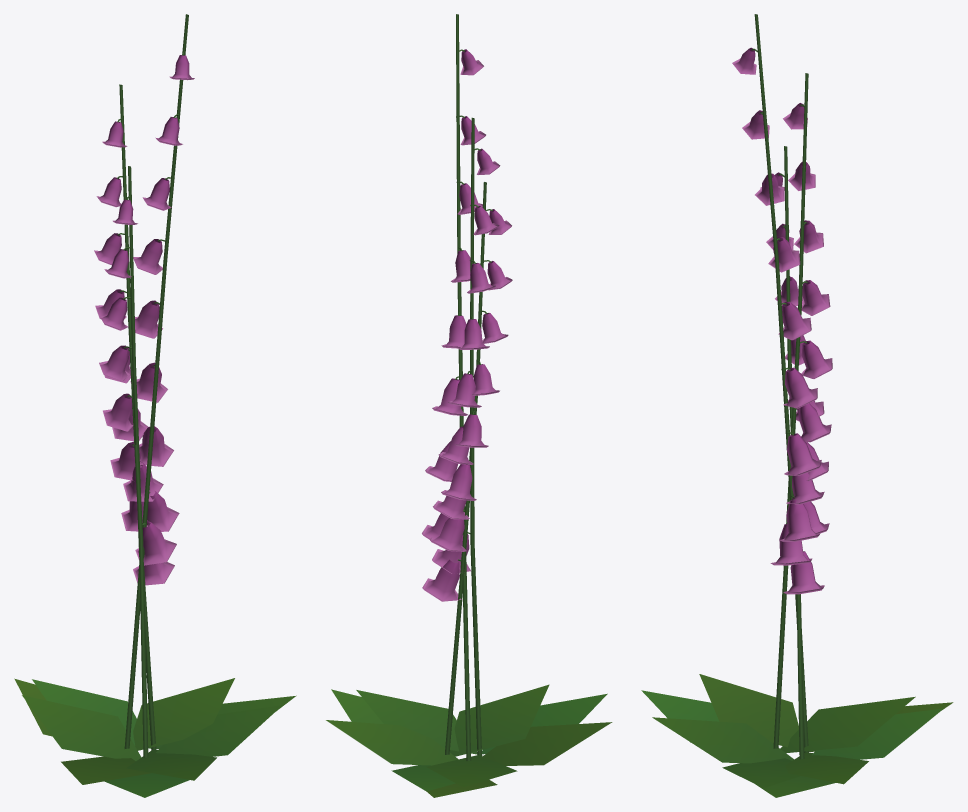
Rendered from flower-foxglove-b.lod1.glb.
The picture shows the model from 3 angles, left to right: view 1: azimuth 30°, elevation 25°; view 2: azimuth 150°, elevation 25°; view 3: azimuth 270°, elevation 25°; orthographic projection. The views are drawn at different scales.
Parts seen in each view (by area): view 1: flower-foxglove-b.lod1; view 2: flower-foxglove-b.lod1; view 3: flower-foxglove-b.lod1.
Part boxes in pixels (x1=…): flower-foxglove-b.lod1: x1=14, y1=14, x2=296, y2=797; flower-foxglove-b.lod1: x1=326, y1=14, x2=612, y2=797; flower-foxglove-b.lod1: x1=641, y1=14, x2=953, y2=797.
Size of the model in its own units: 0.3981 by 1.13 by 0.4236.
